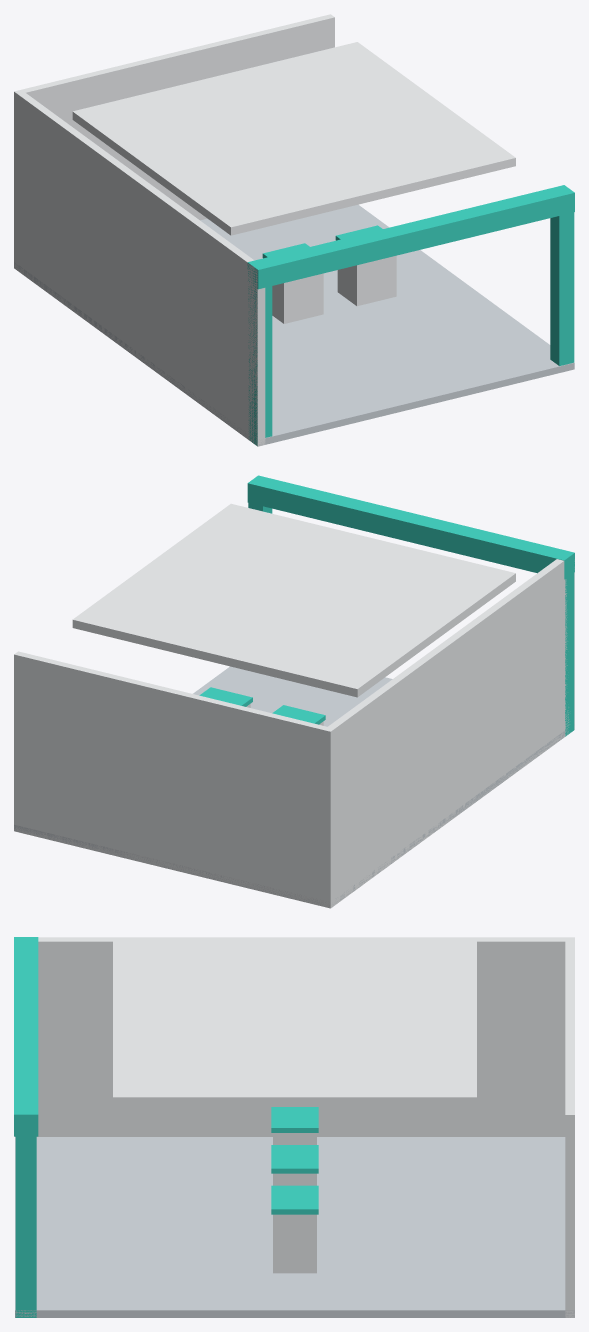
The picture shows the model from 3 angles, top to bottom: view 1: azimuth 30°, elevation 25°; view 2: azimuth 150°, elevation 25°; view 3: azimuth 270°, elevation 25°; orthographic projection. The views are drawn at different scales.
Visible parts, largest first — view 1: Exhibition Booth Concept; view 2: Exhibition Booth Concept; view 3: Exhibition Booth Concept.
Part boxes in pixels (x1,y1,x2,y2): Exhibition Booth Concept: (14, 14, 574, 446); Exhibition Booth Concept: (14, 475, 574, 908); Exhibition Booth Concept: (14, 937, 574, 1317).
Bounding box in the file's own units: 6 × 3.34 × 8.01.
